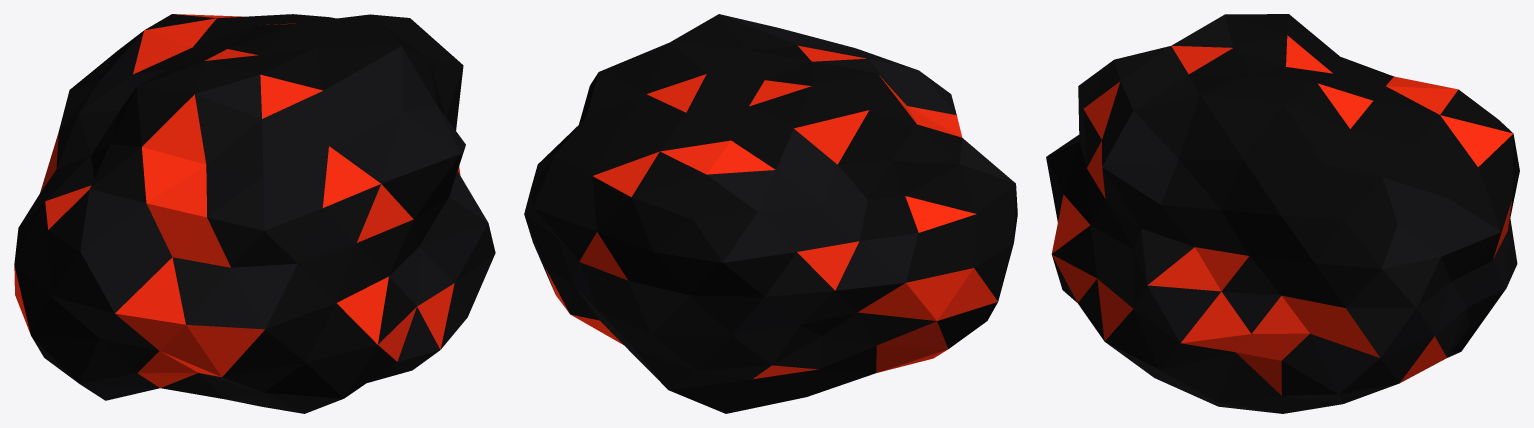
File: DISASTER_06_LavaRock.obj
3 views of the same model, side by side, from view 1: azimuth 30°, elevation 25°; view 2: azimuth 150°, elevation 25°; view 3: azimuth 270°, elevation 25° (orthographic). The views are drawn at different scales.
Parts seen in each view (by area): view 1: DISASTER_06_LavaRock_Rock; view 2: DISASTER_06_LavaRock_Rock; view 3: DISASTER_06_LavaRock_Rock.
Part boxes in pixels (<box>): DISASTER_06_LavaRock_Rock: <box>14,14,495,413</box>; DISASTER_06_LavaRock_Rock: <box>524,14,1017,413</box>; DISASTER_06_LavaRock_Rock: <box>1046,14,1519,413</box>.
Bounding box in the file's own units: 1.07 × 0.7768 × 0.9984.
